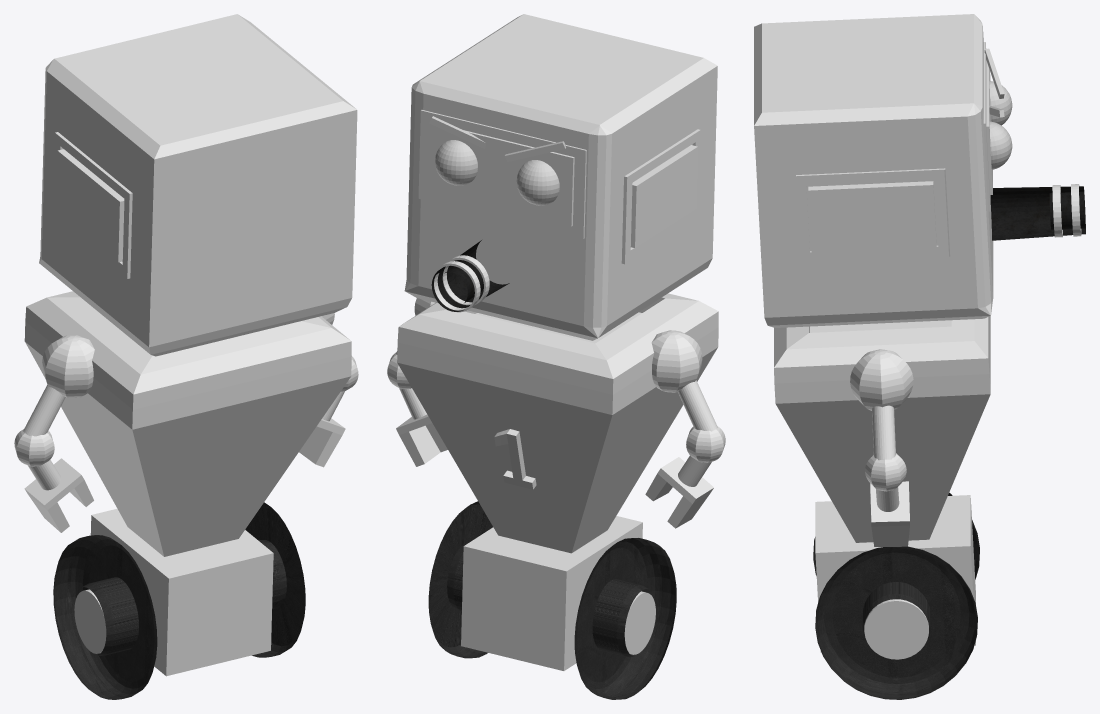
Rendered from broken_robot.fbx.
The picture shows the model from 3 angles, left to right: view 1: azimuth 30°, elevation 25°; view 2: azimuth 150°, elevation 25°; view 3: azimuth 270°, elevation 25°; orthographic projection.
Parts seen in each view (by area): view 1: RobotBody, Robot Head; view 2: RobotBody, Robot Head; view 3: Robot Head, RobotBody.
Boxes of the visible parts, bbox=[...] form: RobotBody: bbox=[14, 291, 358, 699]; Robot Head: bbox=[39, 14, 357, 356]; RobotBody: bbox=[387, 293, 725, 699]; Robot Head: bbox=[404, 14, 717, 340]; Robot Head: bbox=[754, 14, 1085, 327]; RobotBody: bbox=[774, 316, 990, 699].
Bounding box in the file's own units: 194 × 164 × 333.
